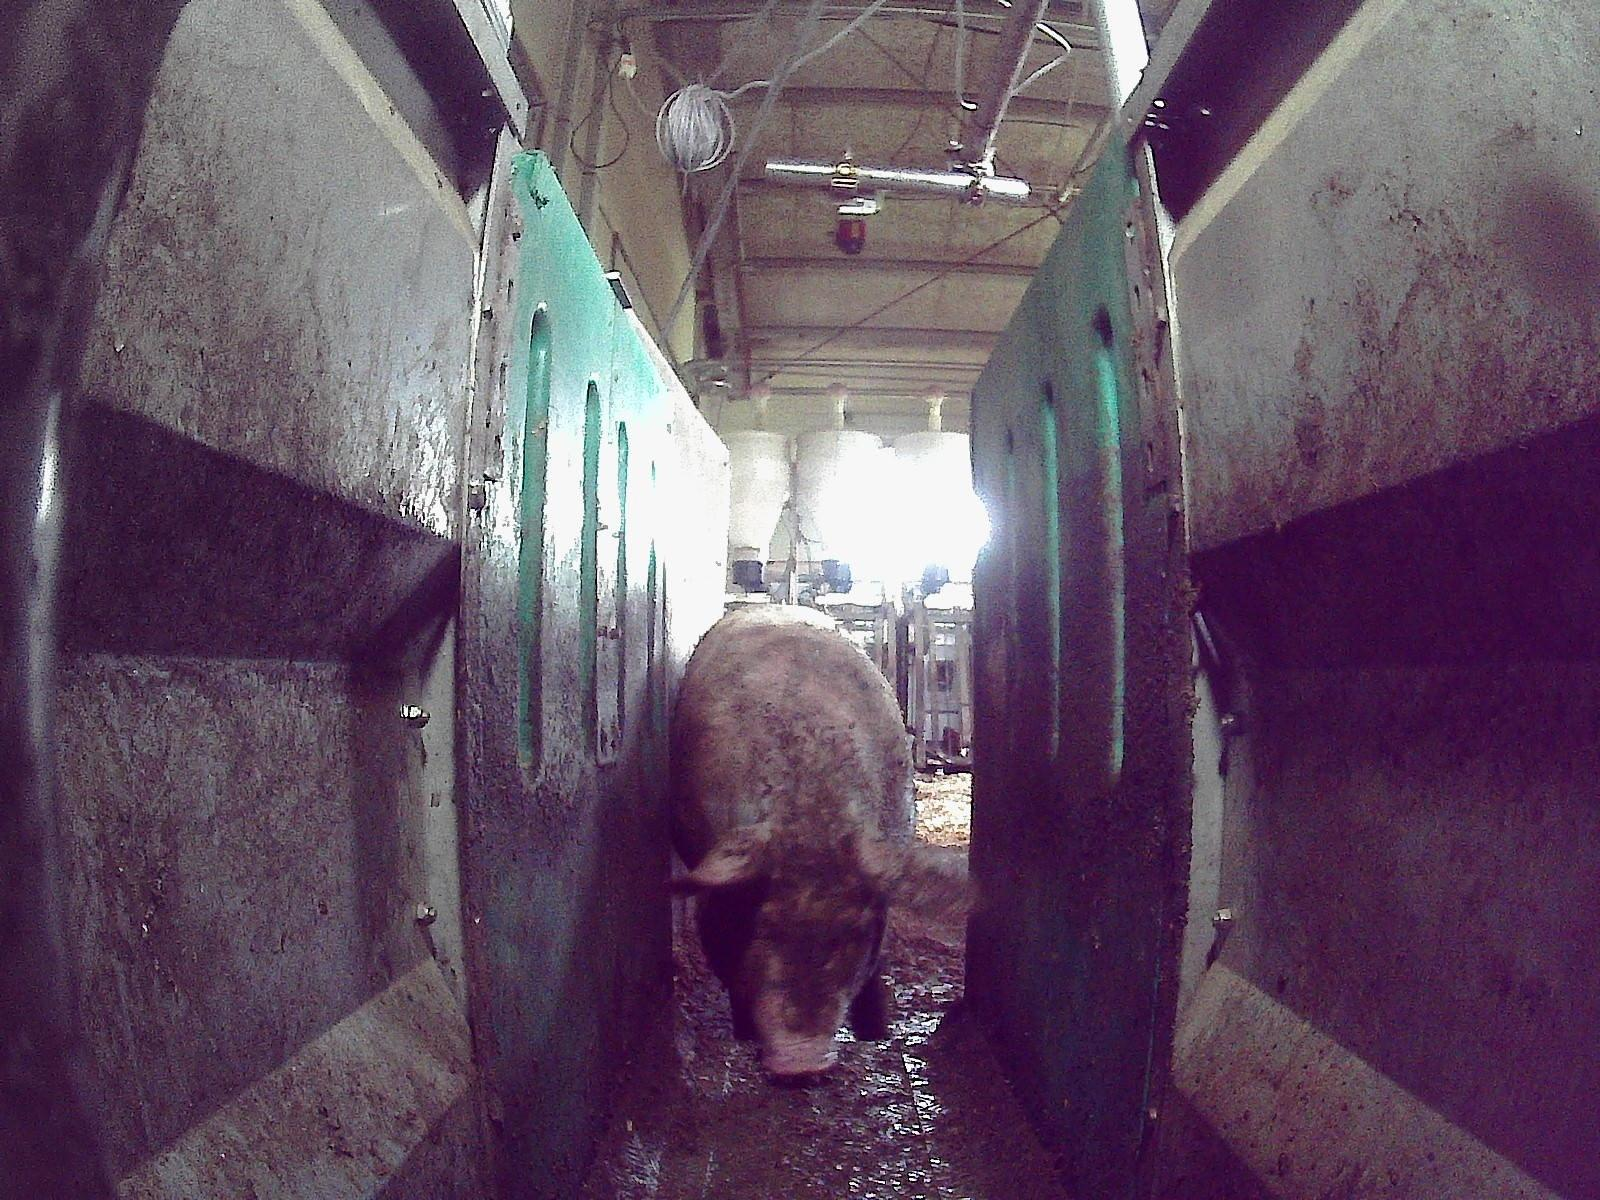Face: (711, 830, 881, 1081)
